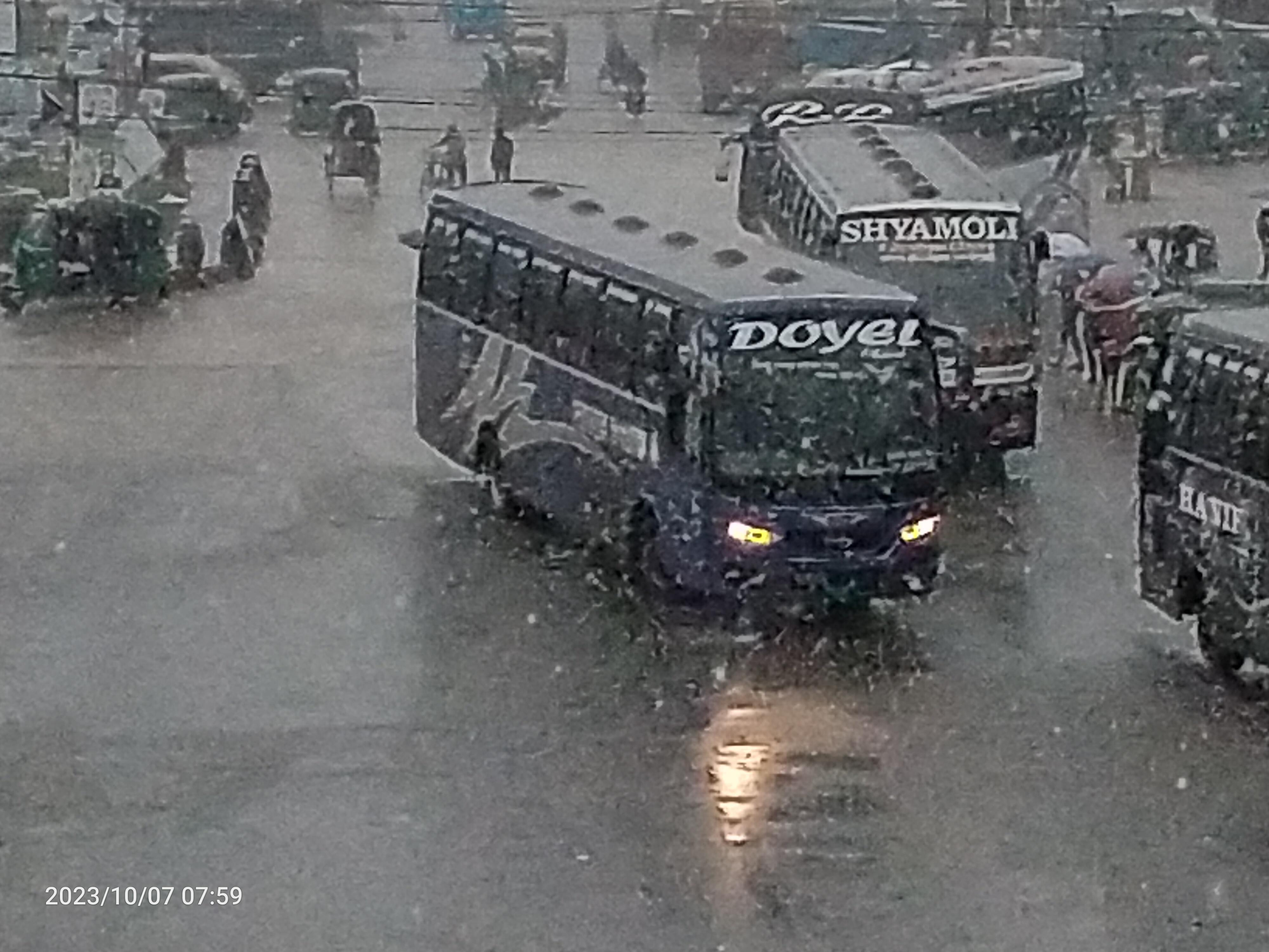Bus: (393, 166, 962, 646), (710, 110, 1097, 468), (1116, 272, 1269, 717)
Car: (444, 37, 567, 136), (304, 93, 400, 211)
